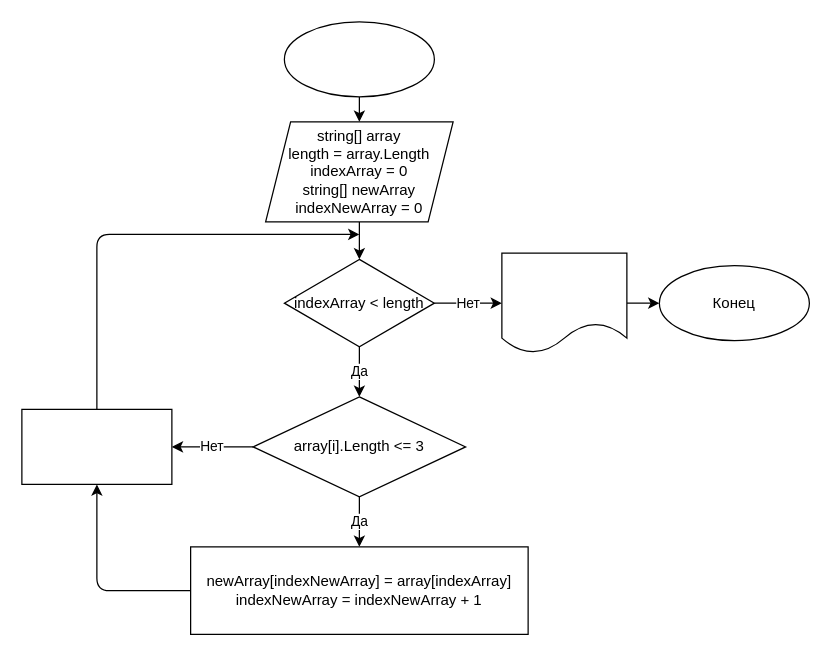
This 831x656 diagram has some shape labels left out. The box of each missing label's shape, as (x1, y1, x2, y2) in pixels:
indexArray = indexArray + 1: (21, 408, 172, 484)
newArray: (501, 252, 627, 353)
Начало: (283, 21, 434, 97)
